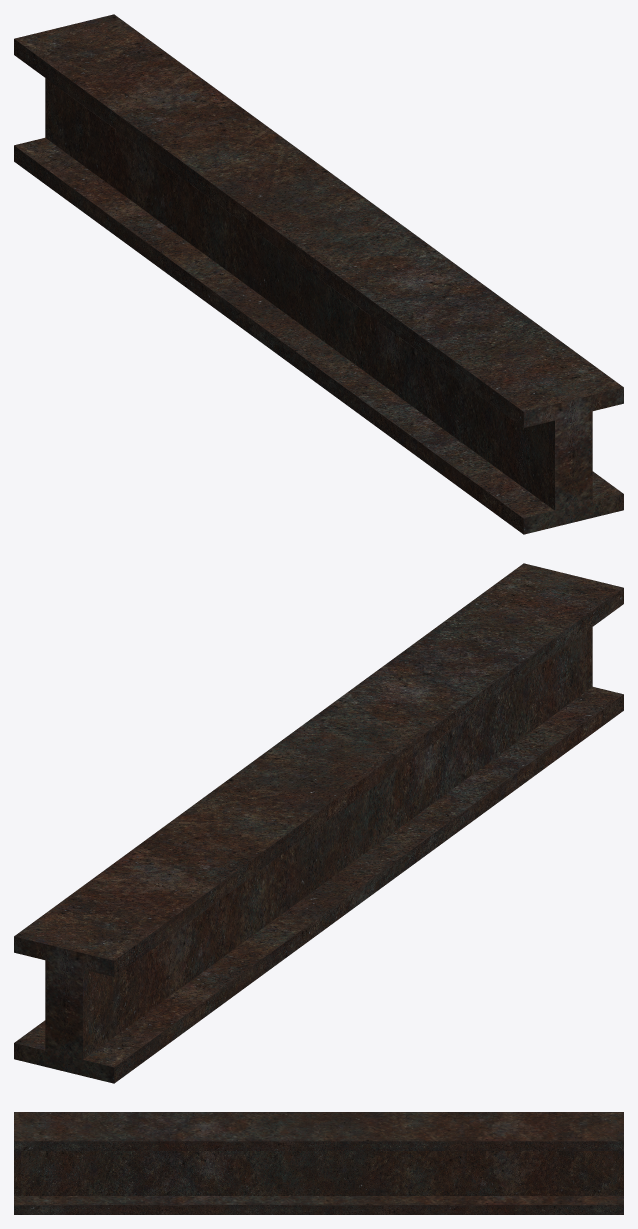
Rendered from scaffold02.fbx.
The picture shows the model from 3 angles, top to bottom: view 1: azimuth 30°, elevation 25°; view 2: azimuth 150°, elevation 25°; view 3: azimuth 270°, elevation 25°; orthographic projection. The views are drawn at different scales.
Parts seen in each view (by area): view 1: scaffold02; view 2: scaffold02; view 3: scaffold02.
Part boxes in pixels (x1,y1,x2,y2): scaffold02: (14, 14, 623, 534); scaffold02: (14, 563, 623, 1083); scaffold02: (14, 1112, 623, 1214).
Size of the model in its own units: 74.76 by 87.52 by 659.
